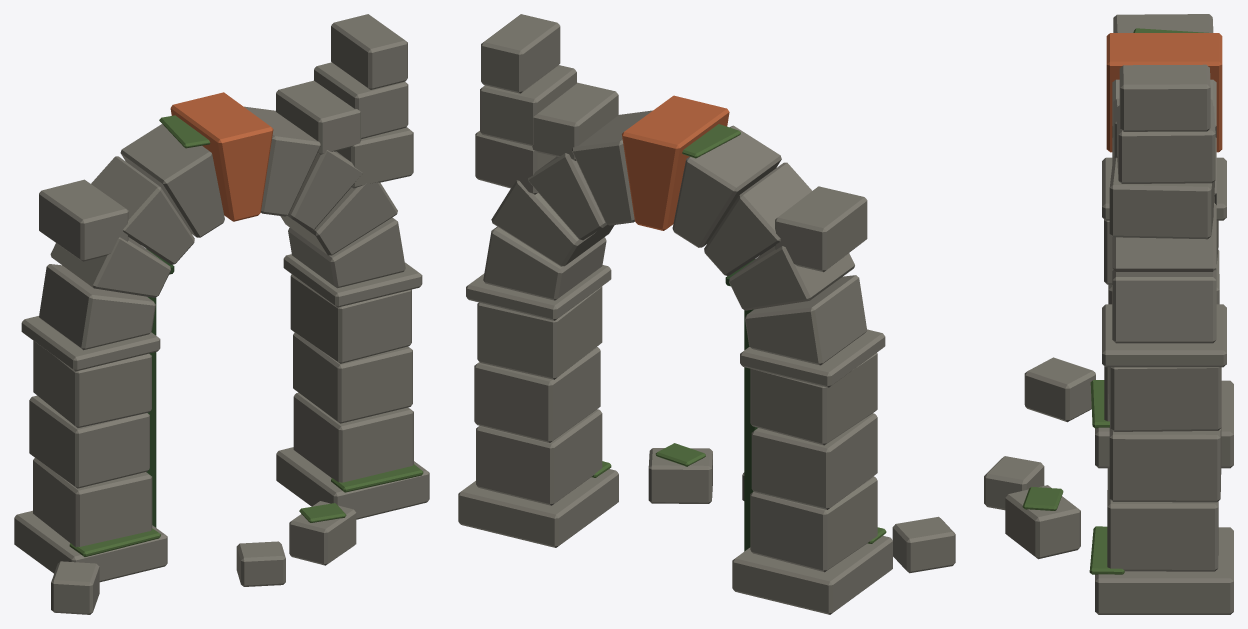
File: ruined_arch.obj
3 renders of one model, left to right at view 1: azimuth 30°, elevation 25°; view 2: azimuth 150°, elevation 25°; view 3: azimuth 270°, elevation 25°, orthographic. The views are drawn at different scales.
Visible parts, largest first — view 1: ruined_arch; view 2: ruined_arch; view 3: ruined_arch.
Part boxes in pixels (x1,y1,x2,y2): ruined_arch: (14,14,429,614); ruined_arch: (458,14,955,614); ruined_arch: (984,14,1233,614).
Bounding box in the file's own units: 4.55 × 5 × 2.16.
